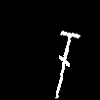double_crochet: (56, 31, 79, 97)
